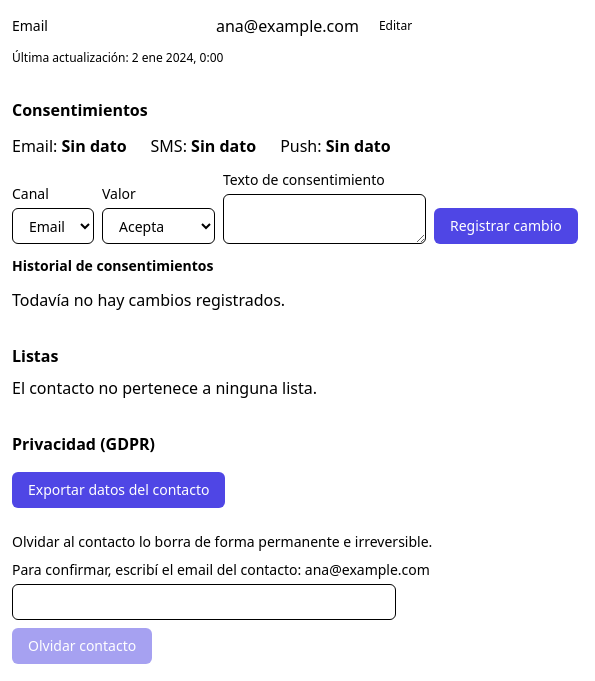
it: contact record › enables "Olvidar contacto" only once the exact email is typed
(page scrolled)
Expected: the button "Olvidar contacto" is disabled, [12, 628, 152, 664]
Type "ana@example.co" into the field labelled "escribí el email del contacto".
click(204, 602); type("ana@example.co")  # box [12, 584, 396, 620]
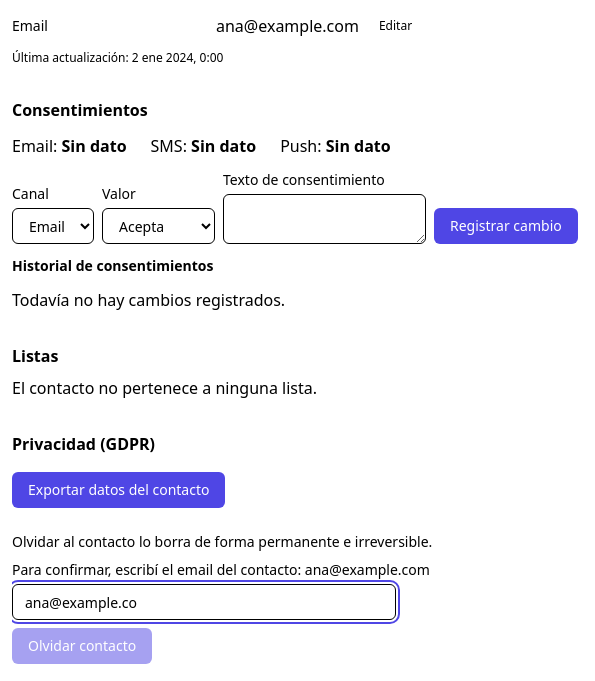
Expected: the button "Olvidar contacto" is disabled, [12, 628, 152, 664]
Type "m" into the field labelled "escribí el email del contacto".
click(204, 602); type("m")  # box [12, 584, 396, 620]
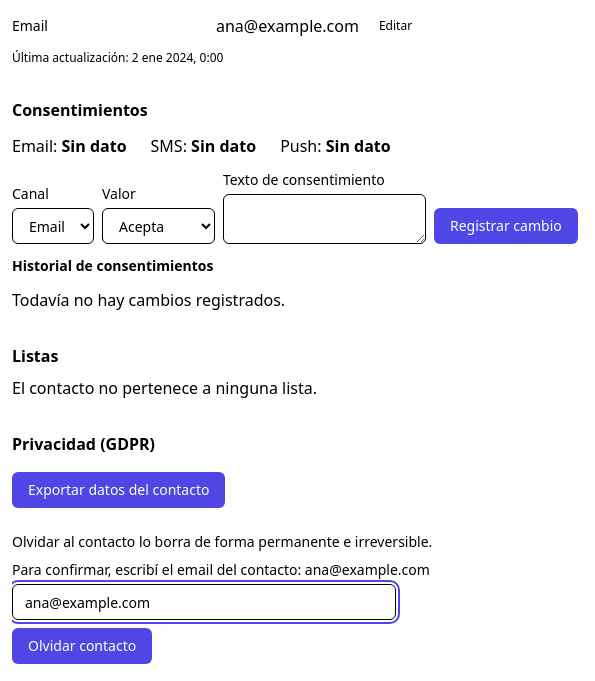
Expected: the button "Olvidar contacto" is enabled
Click the button "Olvidar contacto".
click(82, 646)  # box [12, 628, 152, 664]
(page scrolled)
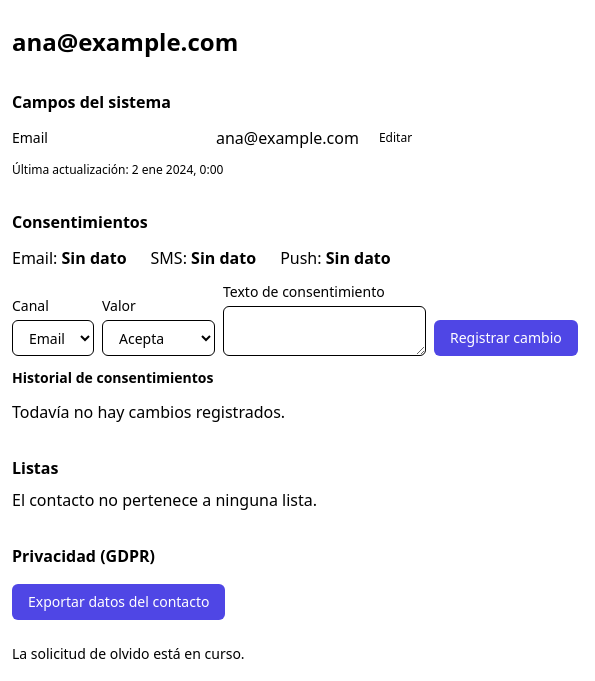
Expected: the text "La solicitud de olvido está en curso." is shown, [12, 644, 245, 663]
